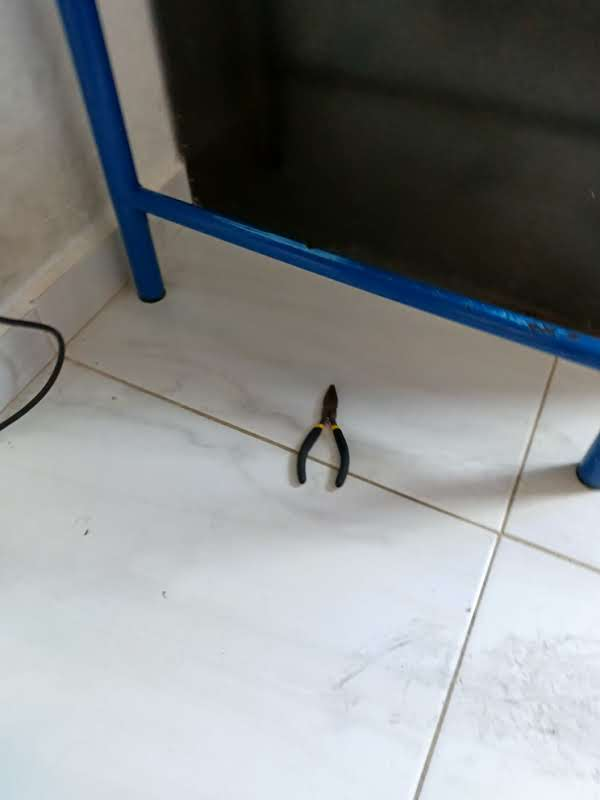Pinzas: (296, 385, 349, 487)
